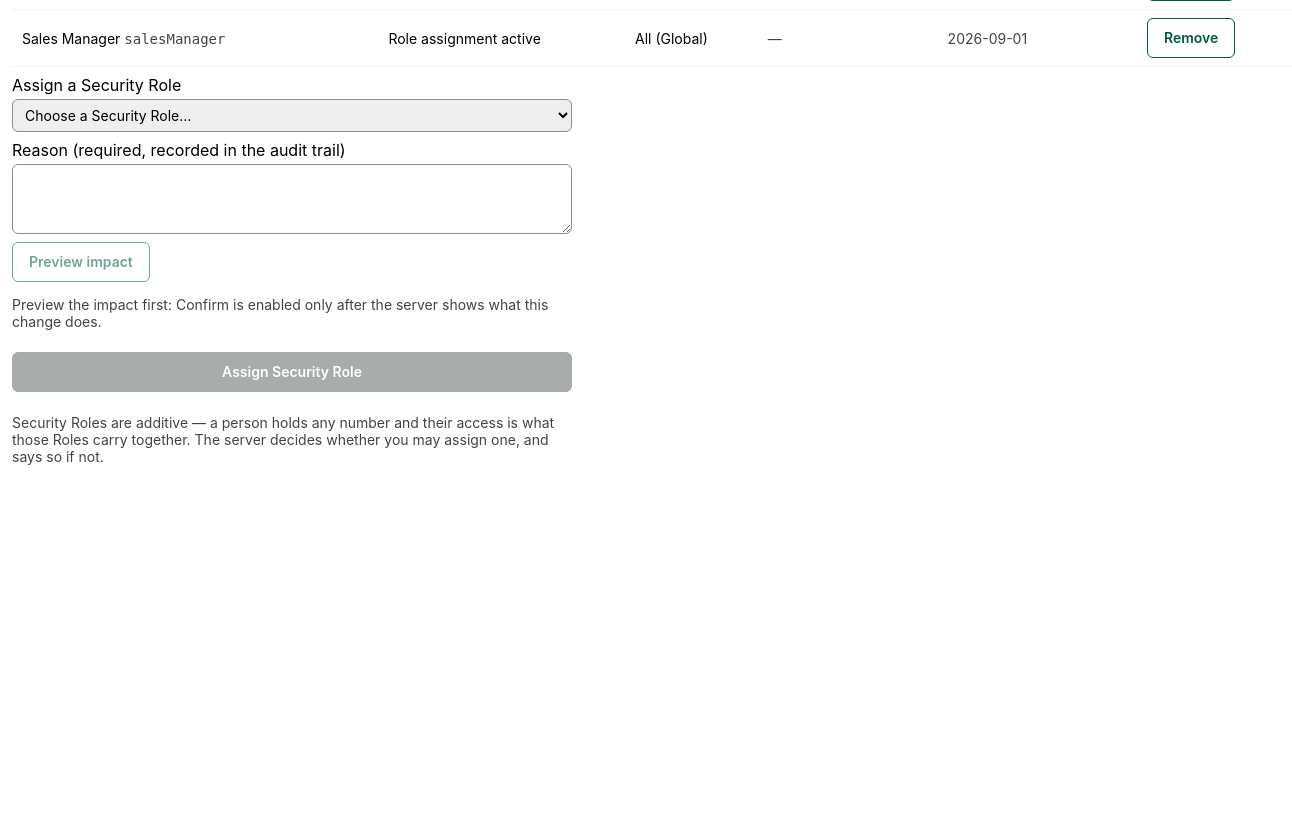
Scenario: Employee > Security Roles: assignment scope from the server › the server's scope refusal is shown verbatim
Select "General Manager" in the dropdown named "Security Role to assign". click: (292, 116)
box: [12,99,572,132]
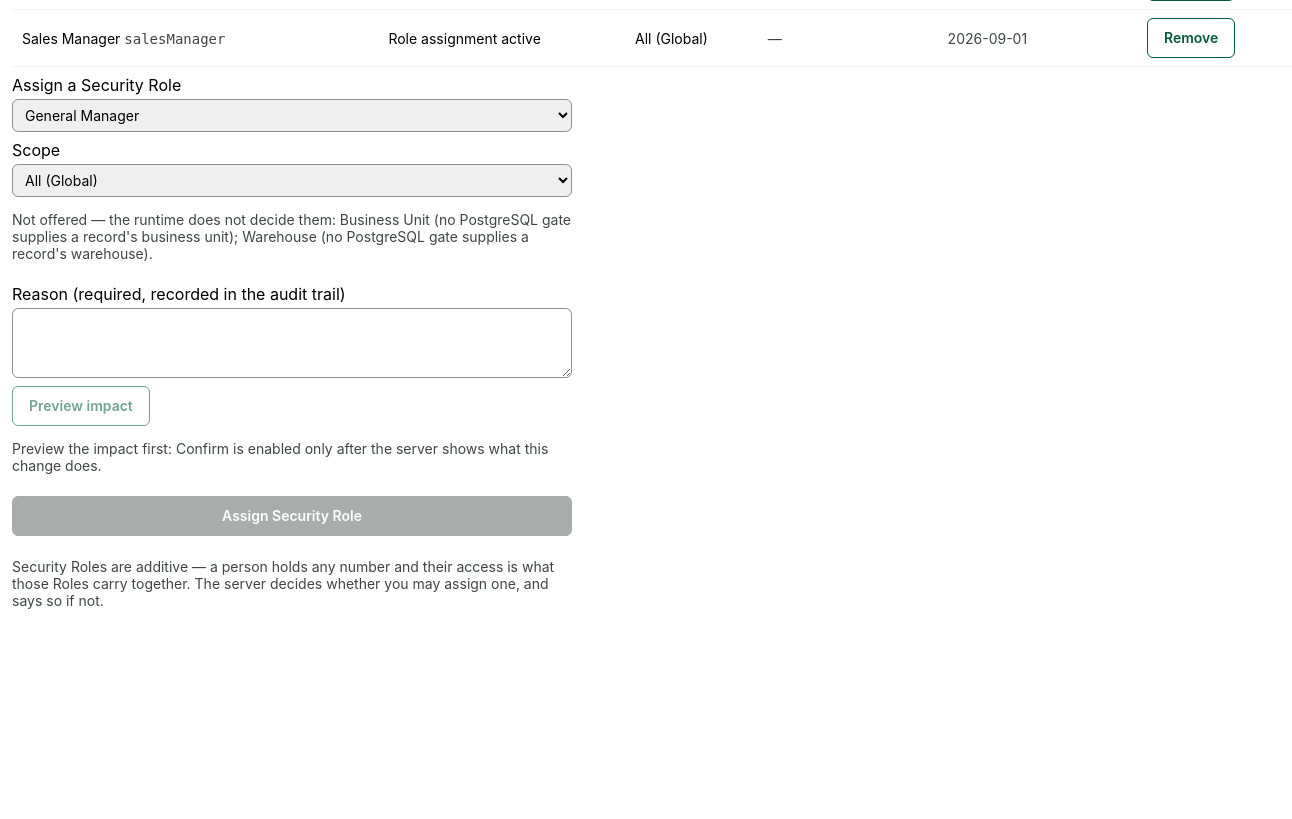
expect the dropdown named "Assignment scope" is shown: met
Select "Company" in the dropdown named "Assignment scope". click: (292, 180)
box: [12,164,572,197]
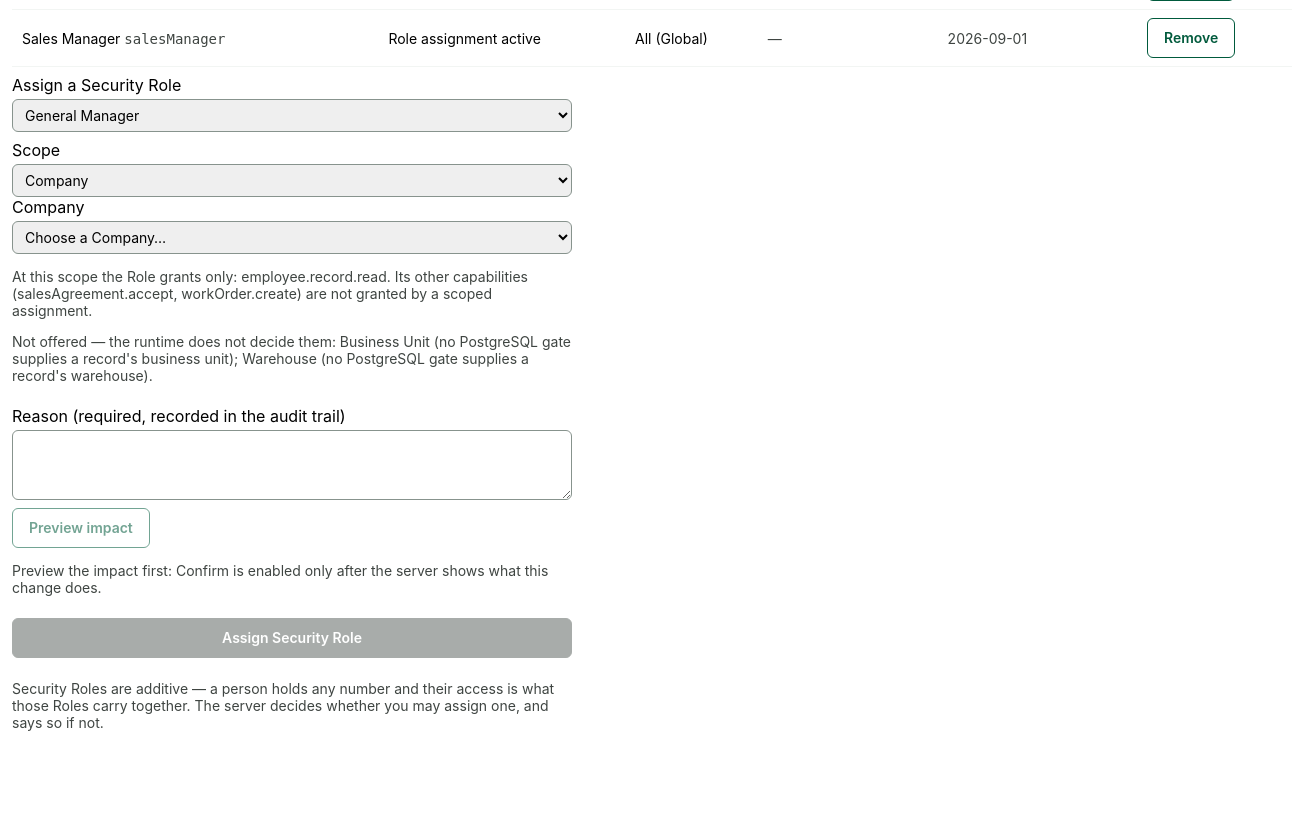
Select "Ventana" in the dropdown named "Scope value". click: (292, 238)
box: [12,221,572,254]
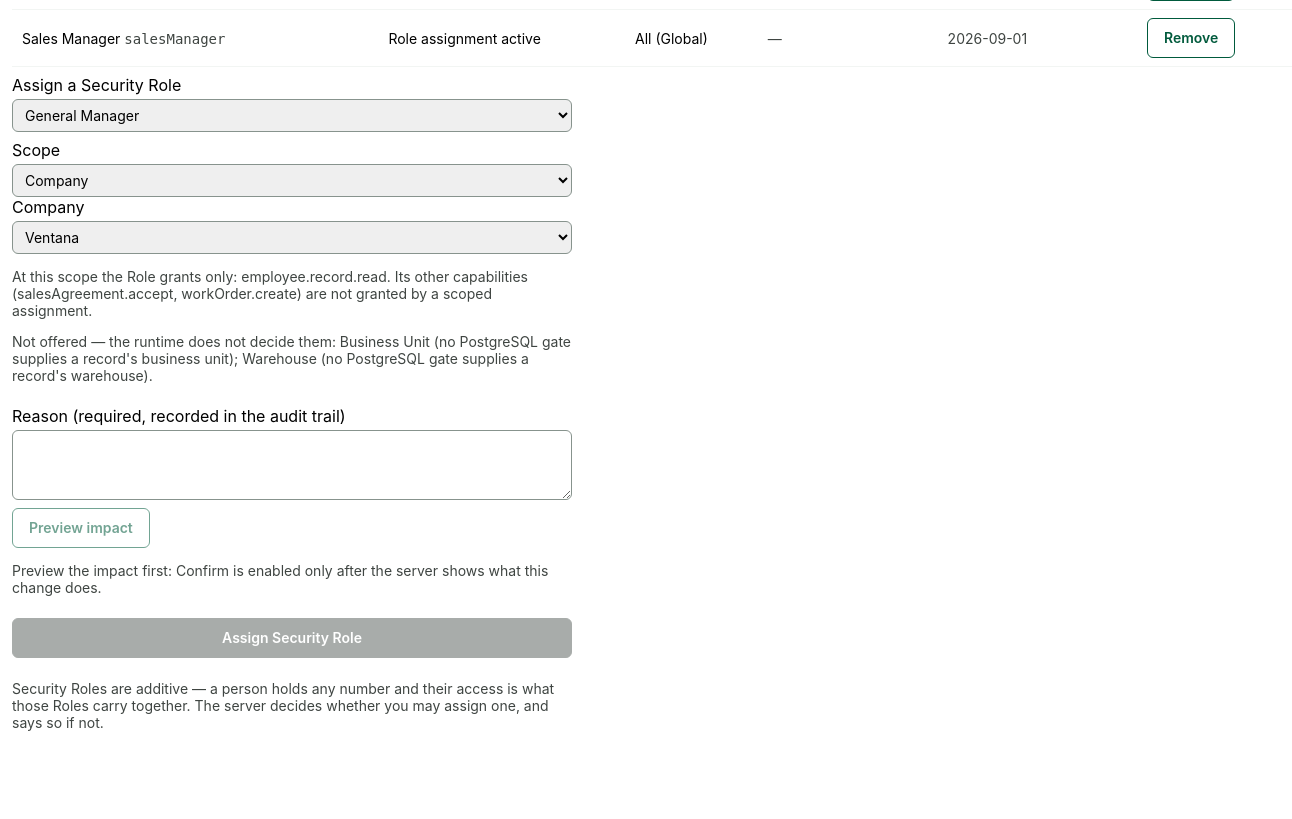
Type "x" into the text box labelled "Reason". click: (292, 465)
box: [12,430,572,500]
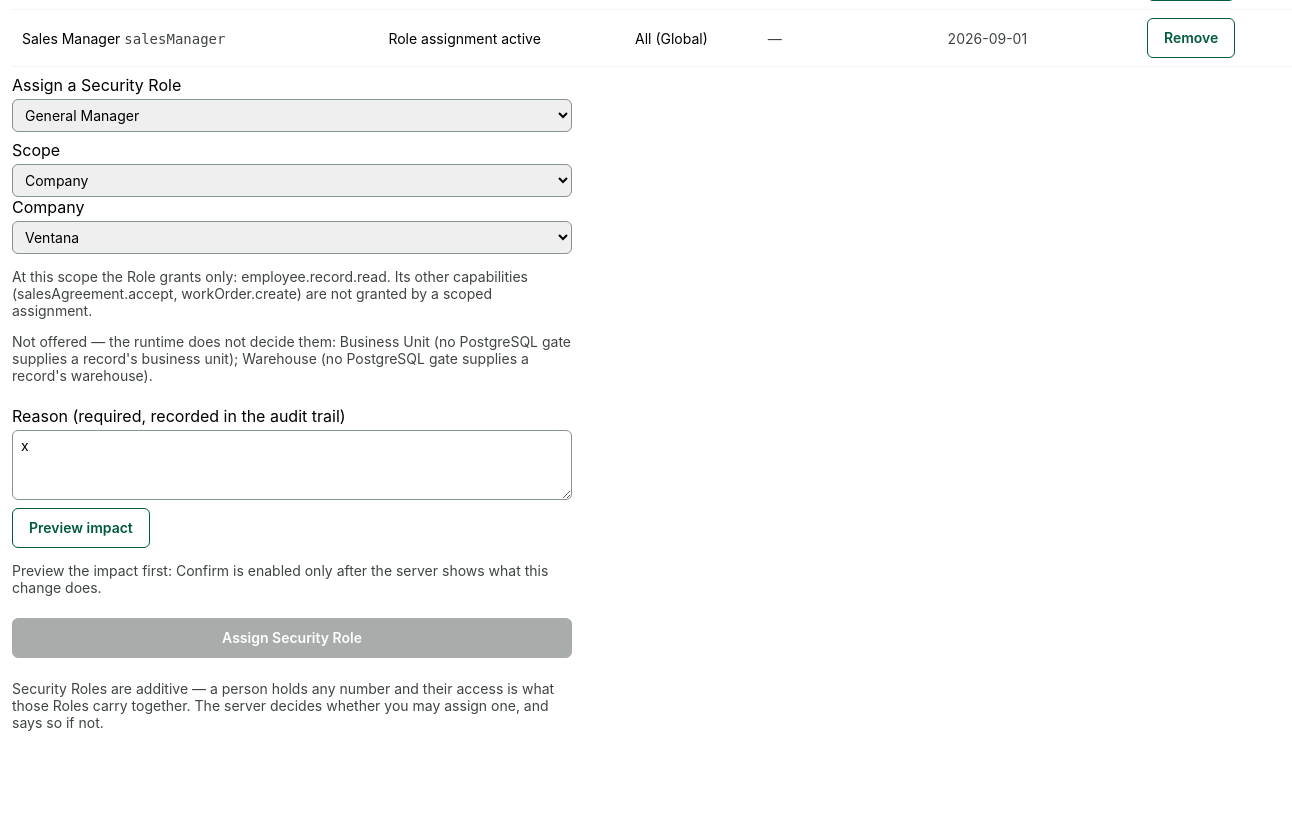
Click the button "Preview impact". click: (81, 528)
box: [12,508,150,548]
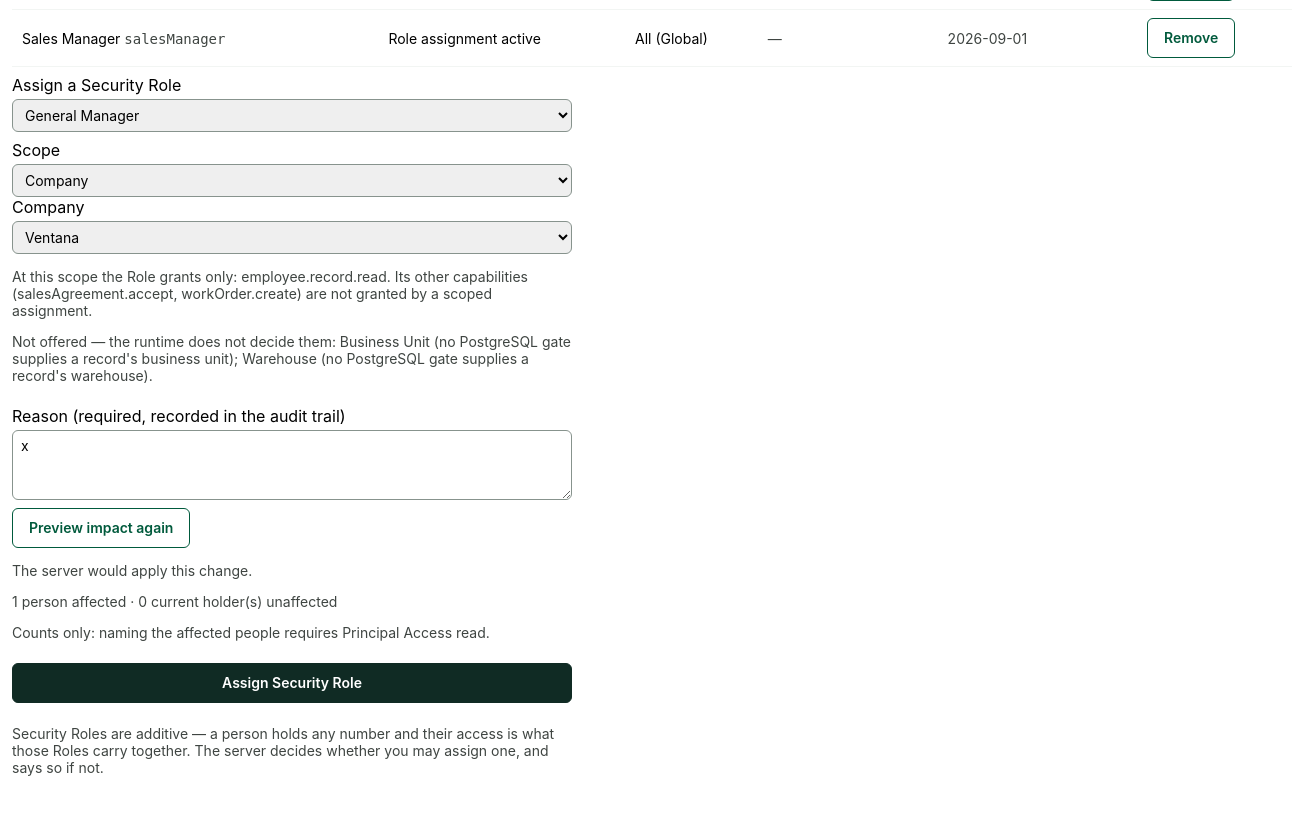
Click the button "Assign Security Role". click: (292, 683)
box: [12,663,572,703]
(page scrolled)
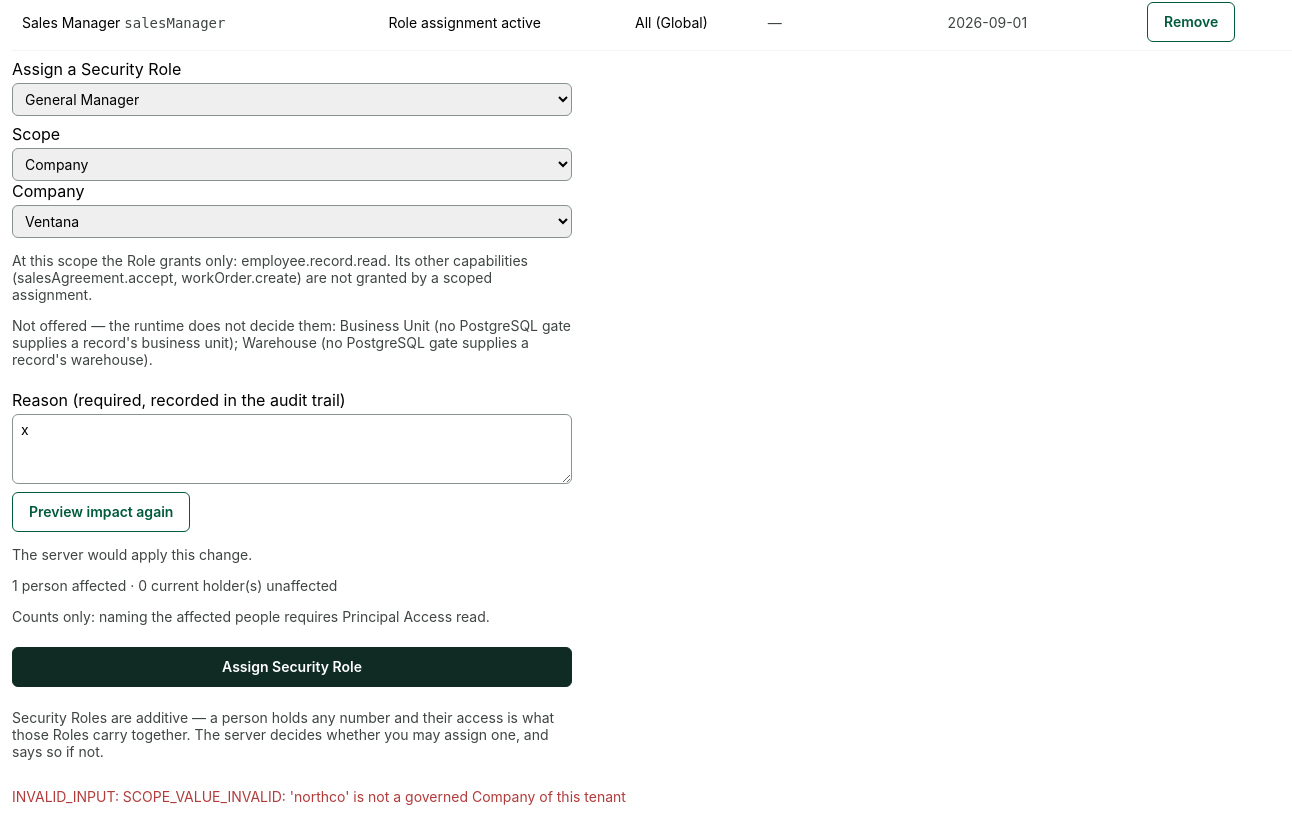
expect the 2nd message shows "INVALID_INPUT: SCOPE_VALUE_INVALID: 'northco' is not a governed Company of this tenant": met, box [12,788,626,805]
